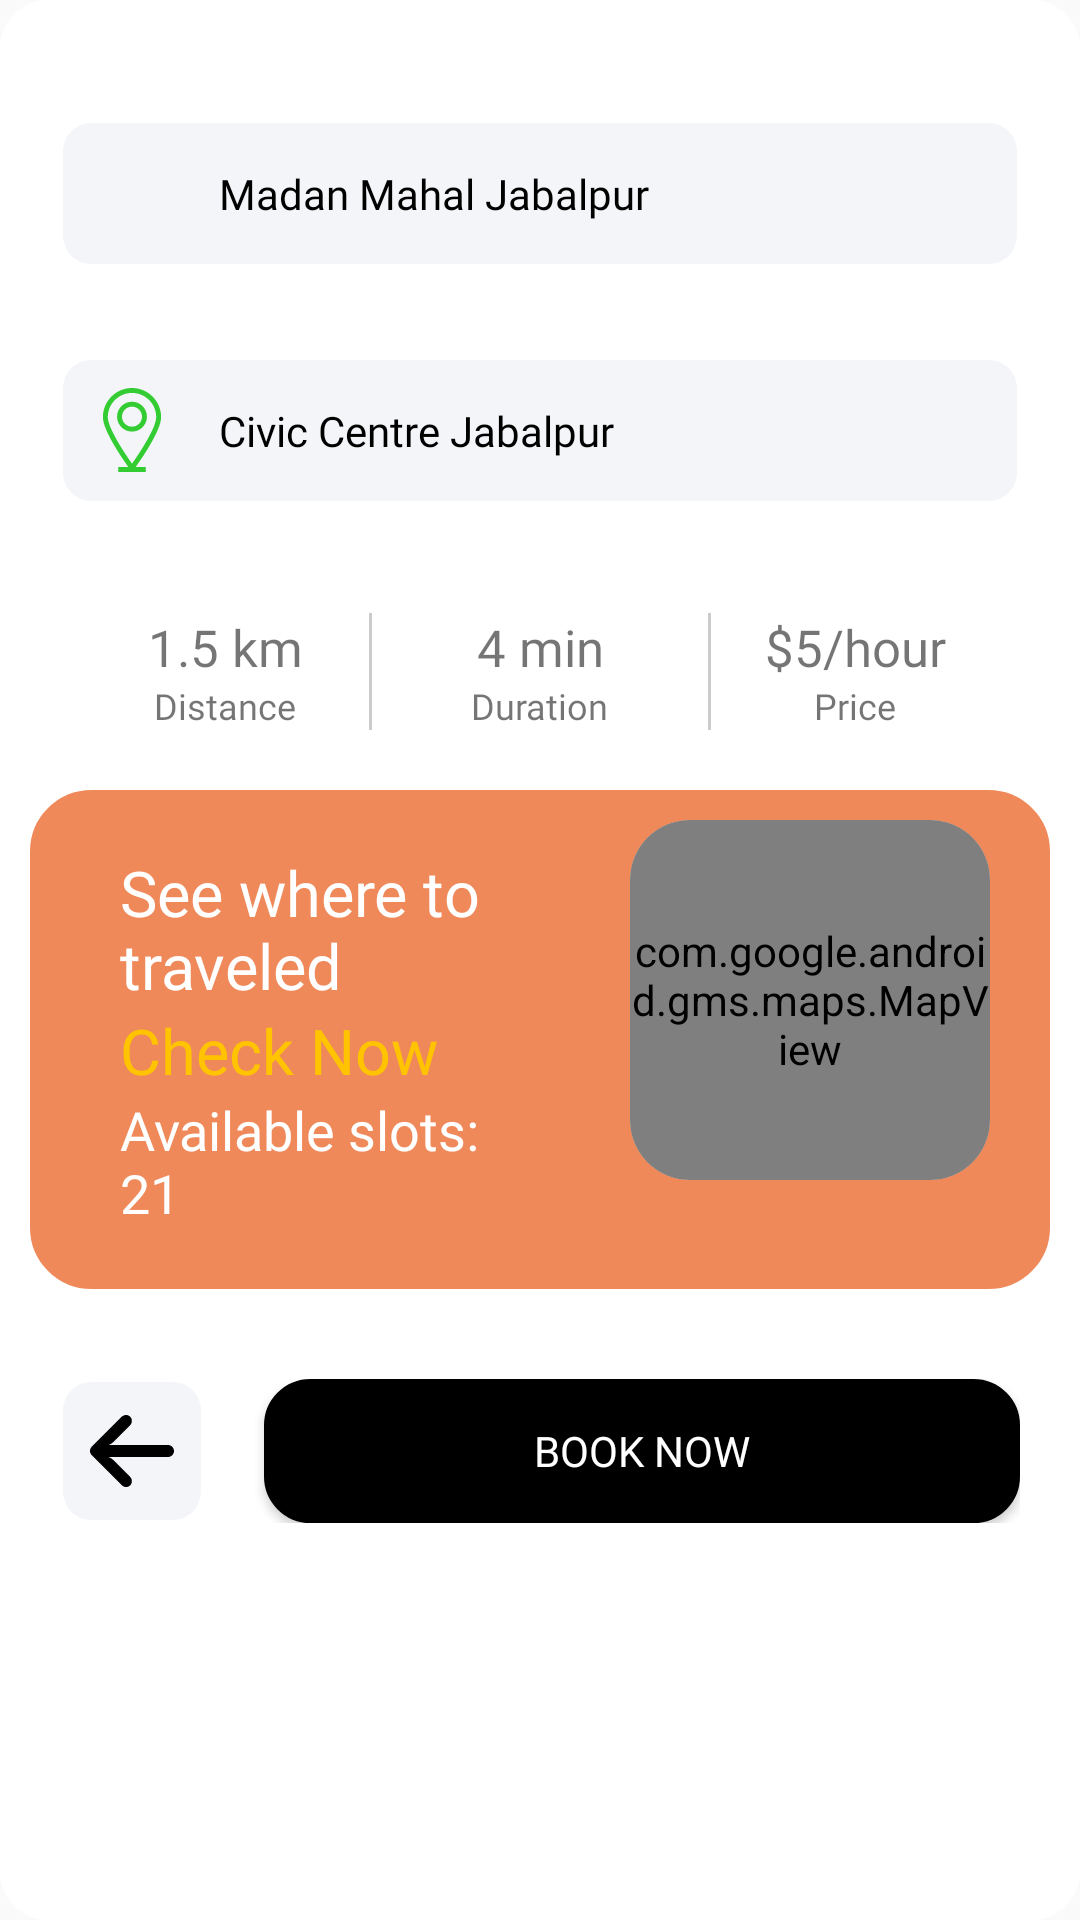

Icons on this 1080x1920 Android screen, each with its box as (x1, y1, x2, y2):
arrow: (63, 1382, 201, 1520)
pin: (103, 388, 161, 472)
